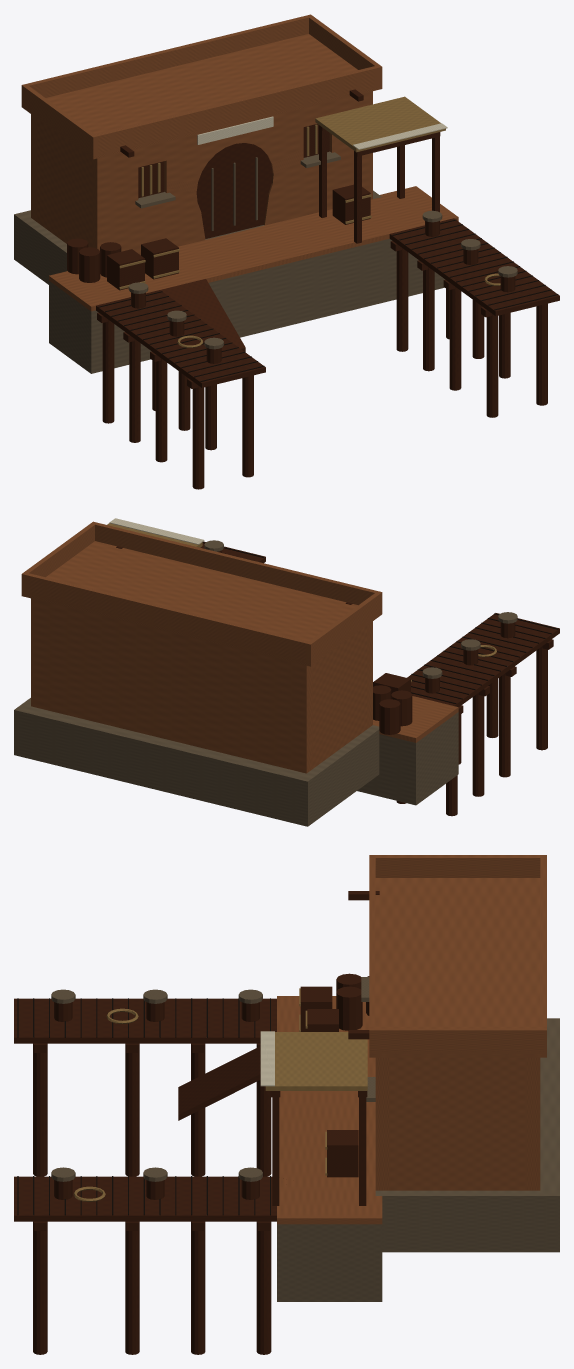
Rendered from Berber_Dock_Age2.fbx.
3 renders of one model, top to bottom at view 1: azimuth 30°, elevation 25°; view 2: azimuth 150°, elevation 25°; view 3: azimuth 270°, elevation 25°, orthographic. The views are drawn at different scales.
Parts seen in each view (by area): view 1: warehouse_front, quay_foundation, warehouse_roof, quay_deck, roof_end_parapet, east_pier_deck, west_pier_deck, warehouse_side, horseshoe_door, roof_end_parapet.001, harbour_shade, warehouse_land_plinth (+28 smaller); view 2: warehouse_back, warehouse_land_plinth, warehouse_roof, roof_end_parapet.001, warehouse_side, west_pier_deck, roof_end_parapet, quay_foundation, roof_side_parapet, quay_deck, roof_side_parapet.001, west_pile.002 (+10 smaller); view 3: warehouse_roof, warehouse_side.001, warehouse_land_plinth, quay_deck, east_pier_deck, west_pier_deck, quay_foundation, harbour_shade, roof_side_parapet.001, roof_side_parapet, west_slipway, east_pile.001 (+18 smaller).
Part boxes in pixels (x1,y1,x2,y2): warehouse_front: [92, 91, 372, 255]; quay_foundation: [49, 238, 444, 373]; warehouse_roof: [21, 34, 382, 159]; quay_deck: [49, 186, 458, 311]; roof_end_parapet: [95, 66, 377, 155]; east_pier_deck: [389, 218, 559, 316]; west_pier_deck: [96, 290, 265, 387]; warehouse_side: [36, 118, 91, 247]; horseshoe_door: [196, 143, 272, 238]; roof_end_parapet.001: [27, 15, 308, 97]; harbour_shade: [315, 96, 445, 152]; warehouse_land_plinth: [14, 190, 381, 284]; warehouse_back: [31, 598, 311, 773]; warehouse_land_plinth: [14, 698, 379, 826]; warehouse_roof: [21, 541, 382, 666]; roof_end_parapet.001: [26, 573, 308, 662]; warehouse_side: [312, 625, 367, 769]; west_pier_deck: [407, 613, 559, 707]; roof_end_parapet: [95, 523, 377, 605]; quay_foundation: [357, 712, 458, 805]; roof_side_parapet: [306, 591, 382, 663]; quay_deck: [373, 696, 458, 742]; roof_side_parapet.001: [21, 521, 97, 593]; west_pile.002: [472, 693, 484, 796]; warehouse_roof: [369, 878, 546, 1057]; warehouse_side.001: [389, 1057, 526, 1190]; warehouse_land_plinth: [375, 1018, 559, 1252]; quay_deck: [277, 996, 382, 1224]; east_pier_deck: [14, 1176, 283, 1221]; west_pier_deck: [14, 998, 276, 1043]; quay_foundation: [277, 1224, 382, 1301]; harbour_shade: [265, 1032, 367, 1090]; roof_side_parapet.001: [369, 1027, 546, 1053]; roof_side_parapet: [369, 855, 546, 877]; west_slipway: [178, 1047, 260, 1120]; east_pile.001: [256, 1221, 271, 1354].
Bounding box in the file's own units: 800 × 512 × 830.
Materials: 6 (6 with a texture image).
